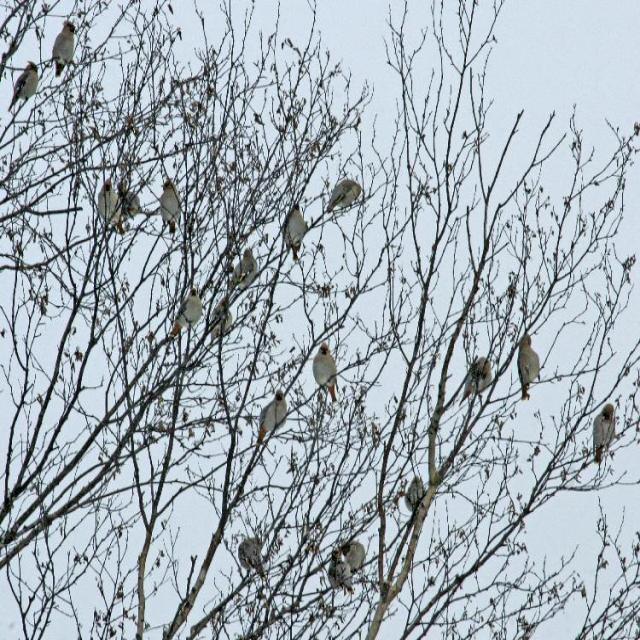bird: (306, 345, 344, 405), (8, 60, 47, 111), (46, 20, 77, 81), (329, 537, 363, 591), (157, 175, 186, 238), (513, 338, 541, 403), (174, 282, 203, 338), (319, 180, 364, 214), (460, 353, 490, 403), (232, 242, 258, 298), (282, 200, 306, 260), (590, 408, 616, 463), (256, 385, 285, 434), (97, 179, 121, 236), (208, 294, 230, 344), (239, 537, 262, 574), (402, 472, 425, 505)
